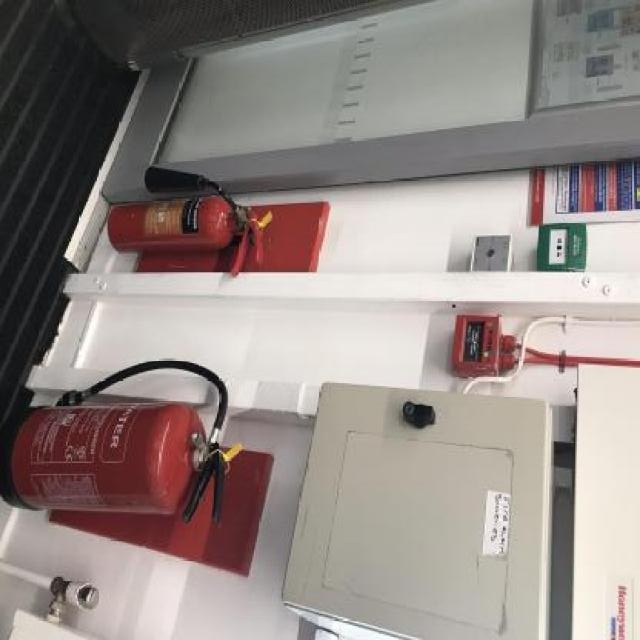fire extinguisher: (11, 358, 229, 525), (106, 165, 263, 275)
